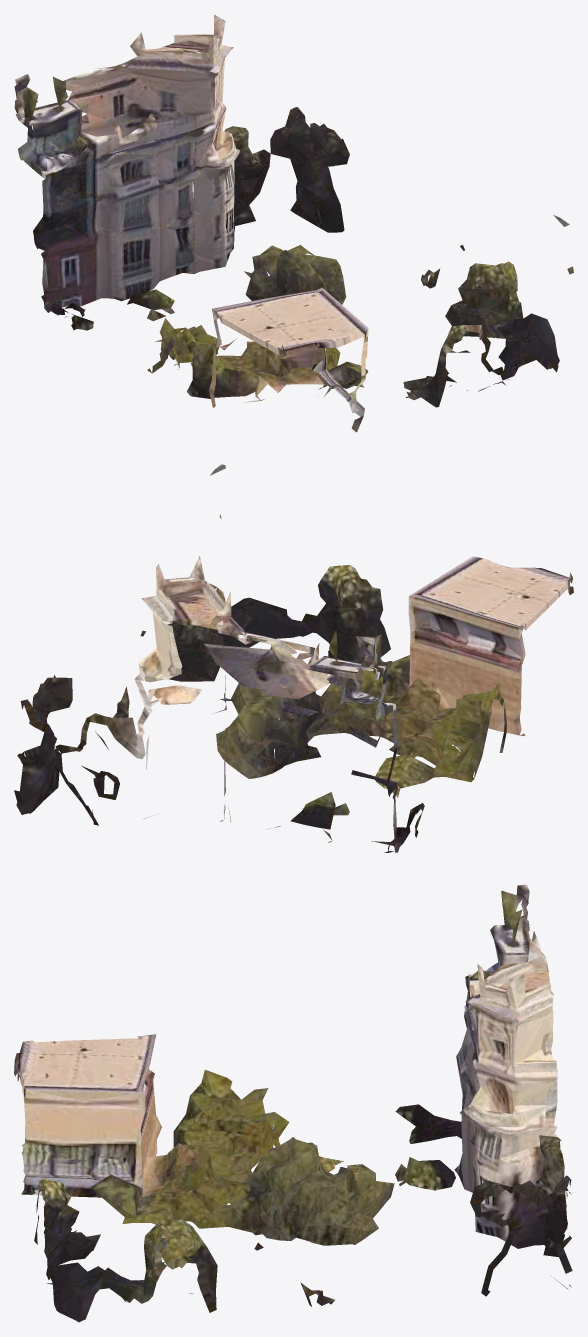
3 renders of one model, top to bottom at view 1: azimuth 30°, elevation 25°; view 2: azimuth 150°, elevation 25°; view 3: azimuth 270°, elevation 25°, orthographic. The views are drawn at different scales.
Parts seen in each view (by area): view 1: Mesh_0; view 2: Mesh_0; view 3: Mesh_0.
Part boxes in pixels (box(x1,y1,x2,y2)): Mesh_0: box(14, 14, 573, 432); Mesh_0: box(14, 464, 573, 852); Mesh_0: box(14, 884, 572, 1322).
Bounding box in the file's own units: 33.9 × 21.87 × 41.37.
Materials: 1 (1 with a texture image).
